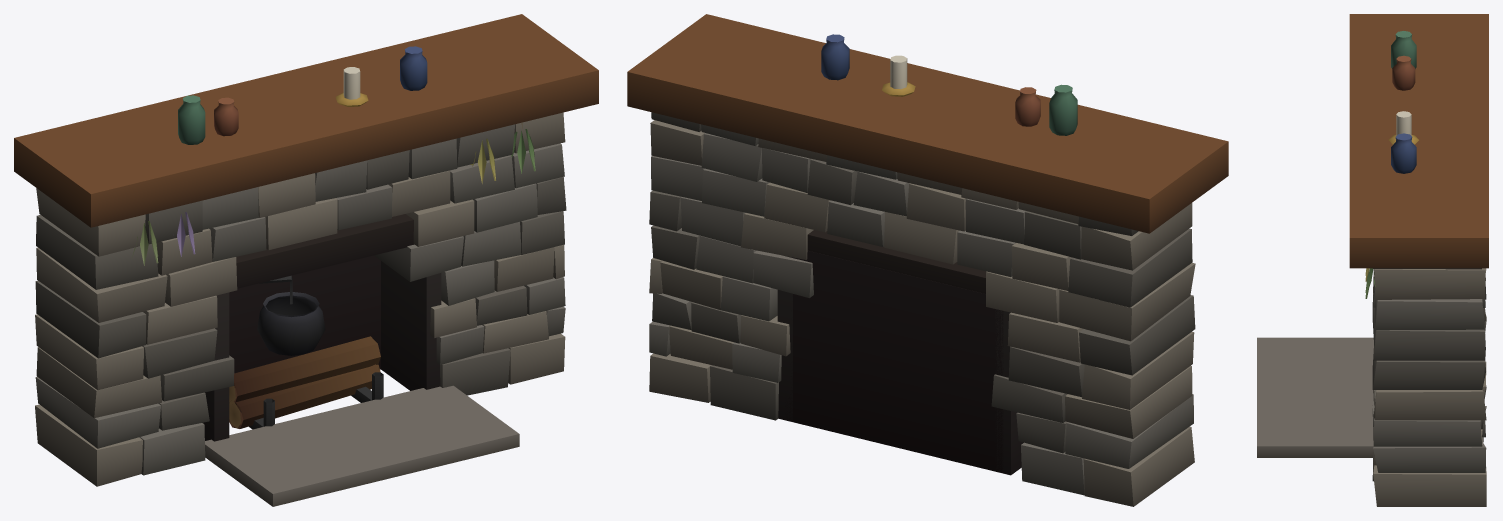
File: hearth.glb
3 views of the same model, side by side, from view 1: azimuth 30°, elevation 25°; view 2: azimuth 150°, elevation 25°; view 3: azimuth 270°, elevation 25° (orthographic). The views are drawn at different scales.
Visible parts, largest first — view 1: hearth; view 2: hearth; view 3: hearth.
Boxes of the visible parts, <box> form: hearth: <box>14,14,598,506</box>; hearth: <box>627,14,1228,506</box>; hearth: <box>1257,14,1488,506</box>.
Bounding box in the file's own units: 2.06 × 1.35 × 0.9.
